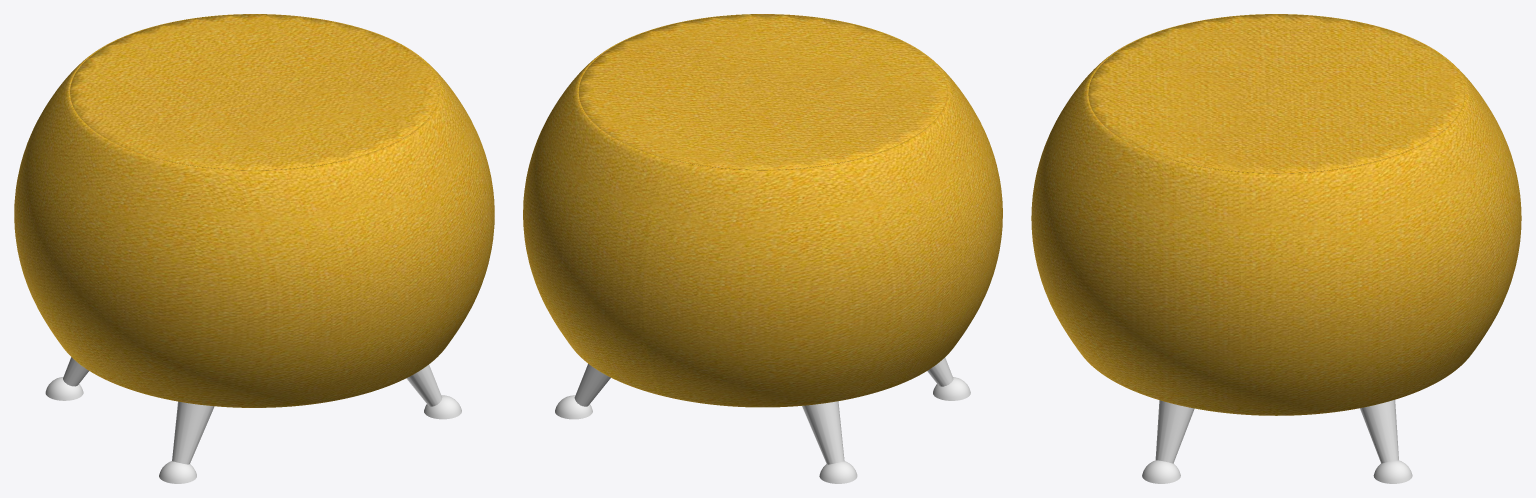
The model's file is Luna.FBX.
3 renders of one model, left to right at view 1: azimuth 30°, elevation 25°; view 2: azimuth 150°, elevation 25°; view 3: azimuth 270°, elevation 25°, orthographic. The views are drawn at different scales.
Parts seen in each view (by area): view 1: Box007, Cylinder026, Cylinder027, Sphere017, Sphere014, Sphere016; view 2: Box007, Cylinder025, Cylinder028, Sphere014, Sphere015, Sphere017; view 3: Box007, Cylinder028, Cylinder027, Sphere016, Sphere015.
Boxes of the visible parts, x1=… form: Box007: x1=14, y1=14, x2=494, y2=407; Cylinder026: x1=172, y1=401, x2=214, y2=464; Cylinder027: x1=406, y1=365, x2=442, y2=406; Sphere017: x1=159, y1=461, x2=196, y2=483; Sphere014: x1=45, y1=377, x2=83, y2=400; Sphere016: x1=424, y1=395, x2=461, y2=419; Box007: x1=523, y1=14, x2=1002, y2=407; Cylinder025: x1=802, y1=401, x2=844, y2=464; Cylinder028: x1=574, y1=364, x2=610, y2=406; Sphere014: x1=819, y1=461, x2=857, y2=483; Sphere015: x1=555, y1=395, x2=592, y2=419; Sphere017: x1=933, y1=377, x2=970, y2=400; Box007: x1=1031, y1=14, x2=1521, y2=415; Cylinder028: x1=1360, y1=400, x2=1398, y2=463; Cylinder027: x1=1155, y1=400, x2=1194, y2=463; Sphere016: x1=1142, y1=460, x2=1180, y2=483; Sphere015: x1=1373, y1=460, x2=1412, y2=483.
Bounding box in the file's own units: 494 × 352 × 494.
Materials: 2 (1 with a texture image).
